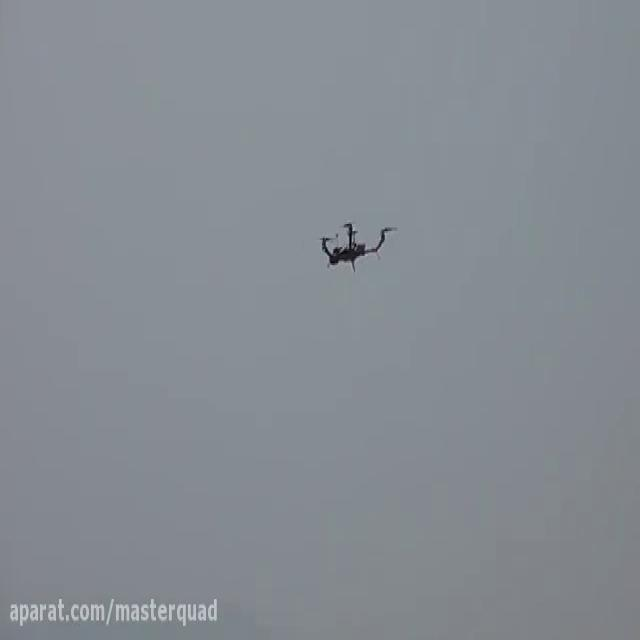drone: (312, 210, 400, 281)
